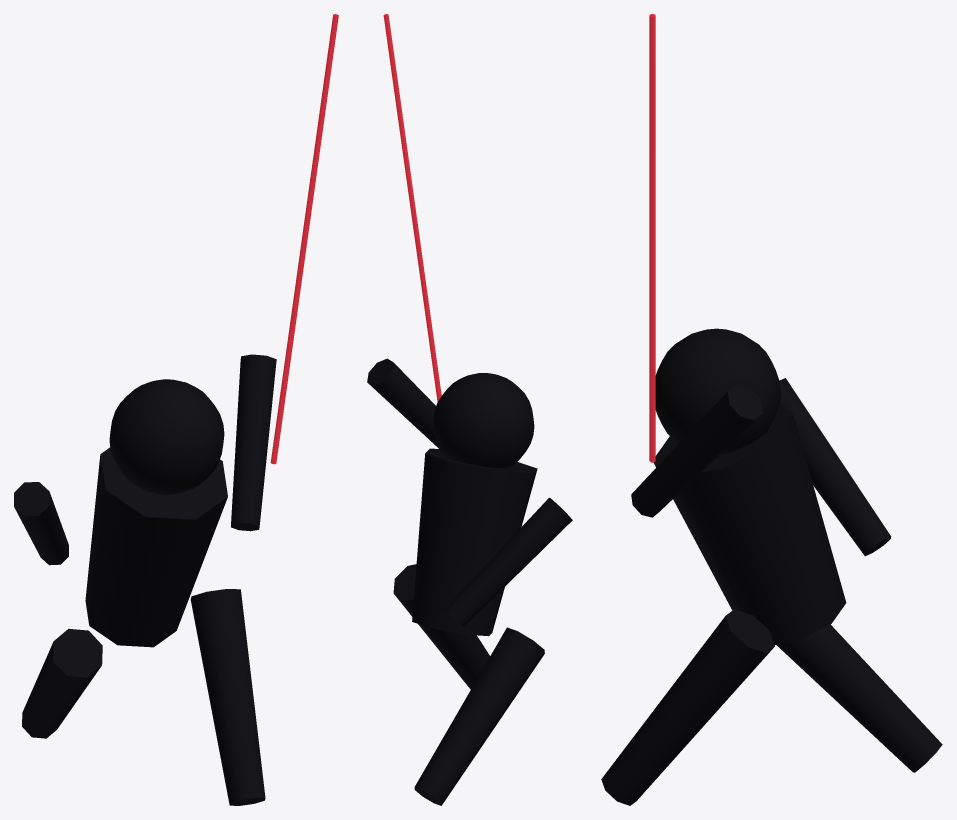
File: web-hero.glb
The picture shows the model from 3 angles, left to right: view 1: azimuth 30°, elevation 25°; view 2: azimuth 150°, elevation 25°; view 3: azimuth 270°, elevation 25°; orthographic projection. The views are drawn at different scales.
Parts seen in each view (by area): view 1: WebSlingerSilhouette; view 2: WebSlingerSilhouette; view 3: WebSlingerSilhouette.
Boxes of the visible parts, box(x1,y1,x2,y2) form: WebSlingerSilhouette: box(14, 14, 338, 805); WebSlingerSilhouette: box(367, 14, 572, 805); WebSlingerSilhouette: box(601, 14, 942, 805).
Bounding box in the file's own units: 1.6 × 4.39 × 1.6.
